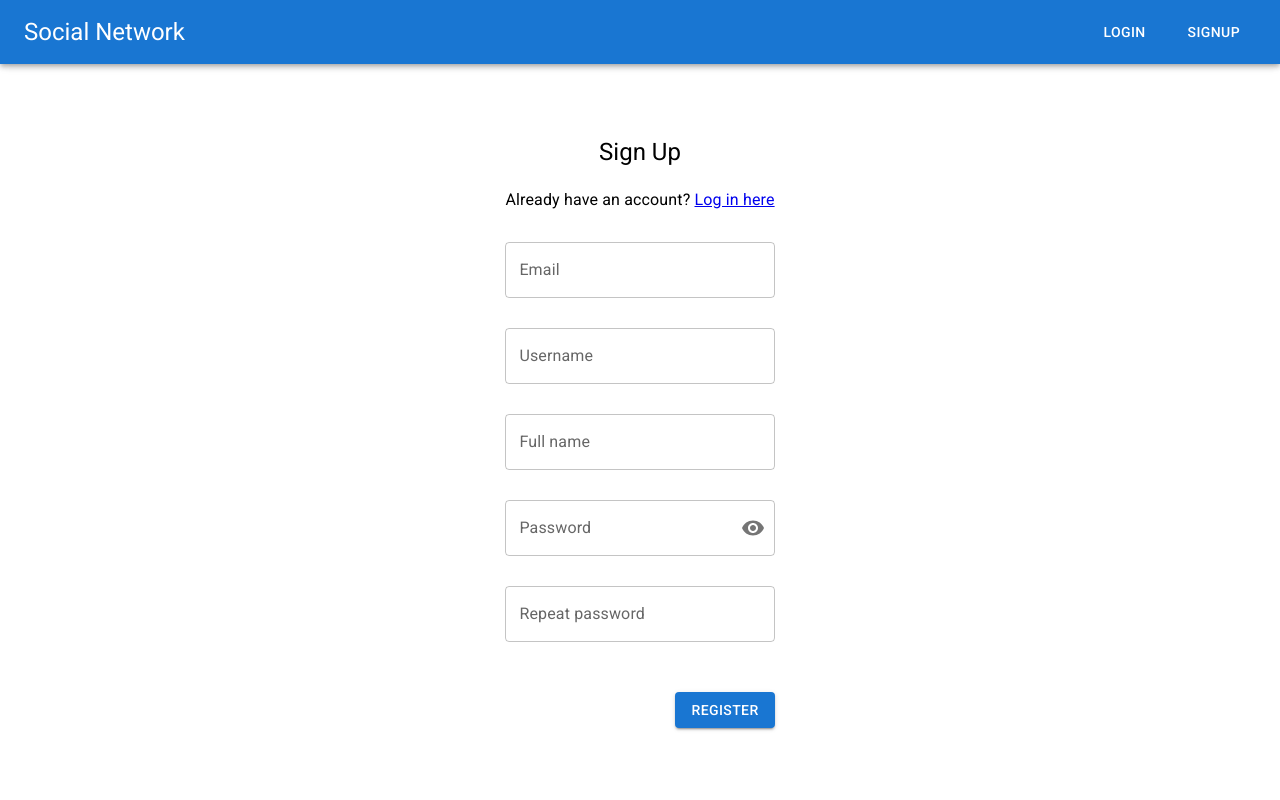
Test: register page form › should return error if username taken
Type "johndoe@gmail.com" into the field labelled "Email". click: (640, 270)
box: [505,242,775,298]
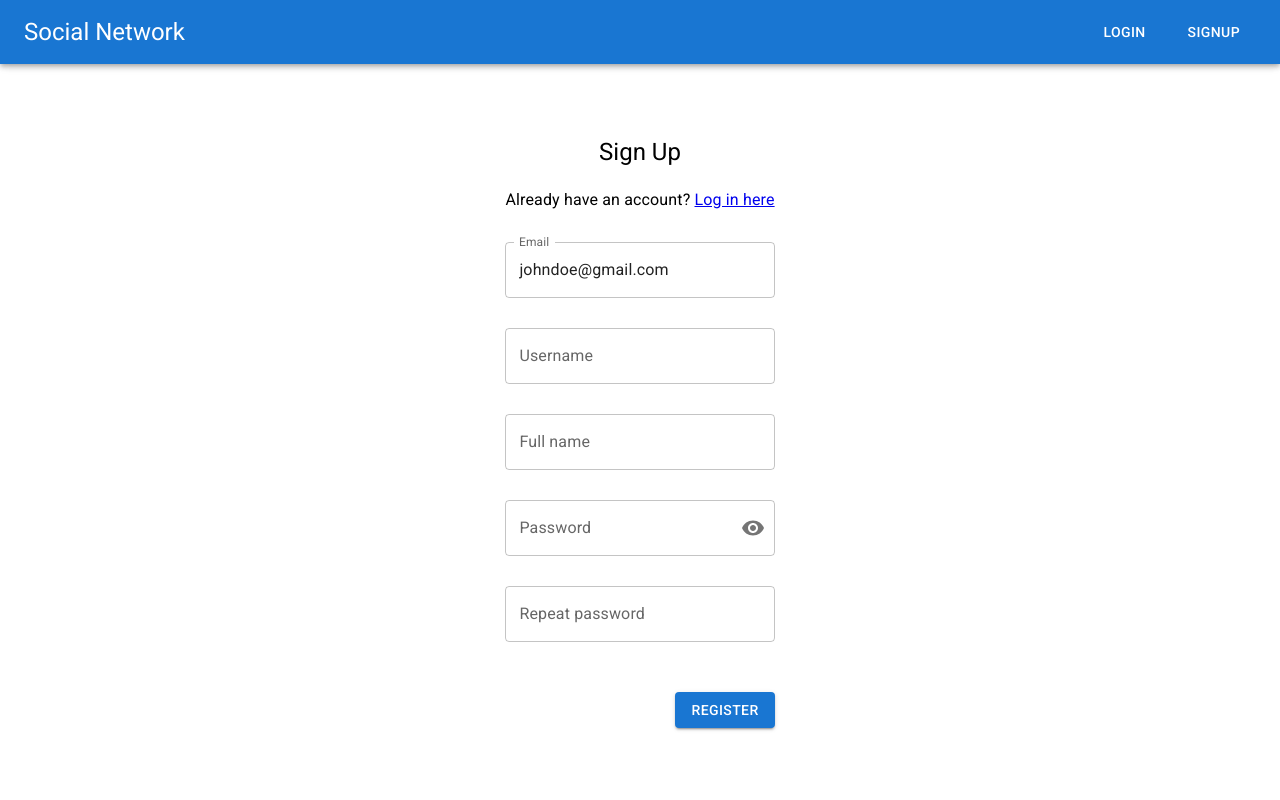
Type "john123" into the field labelled "Username". click: (640, 356)
box: [505,328,775,384]
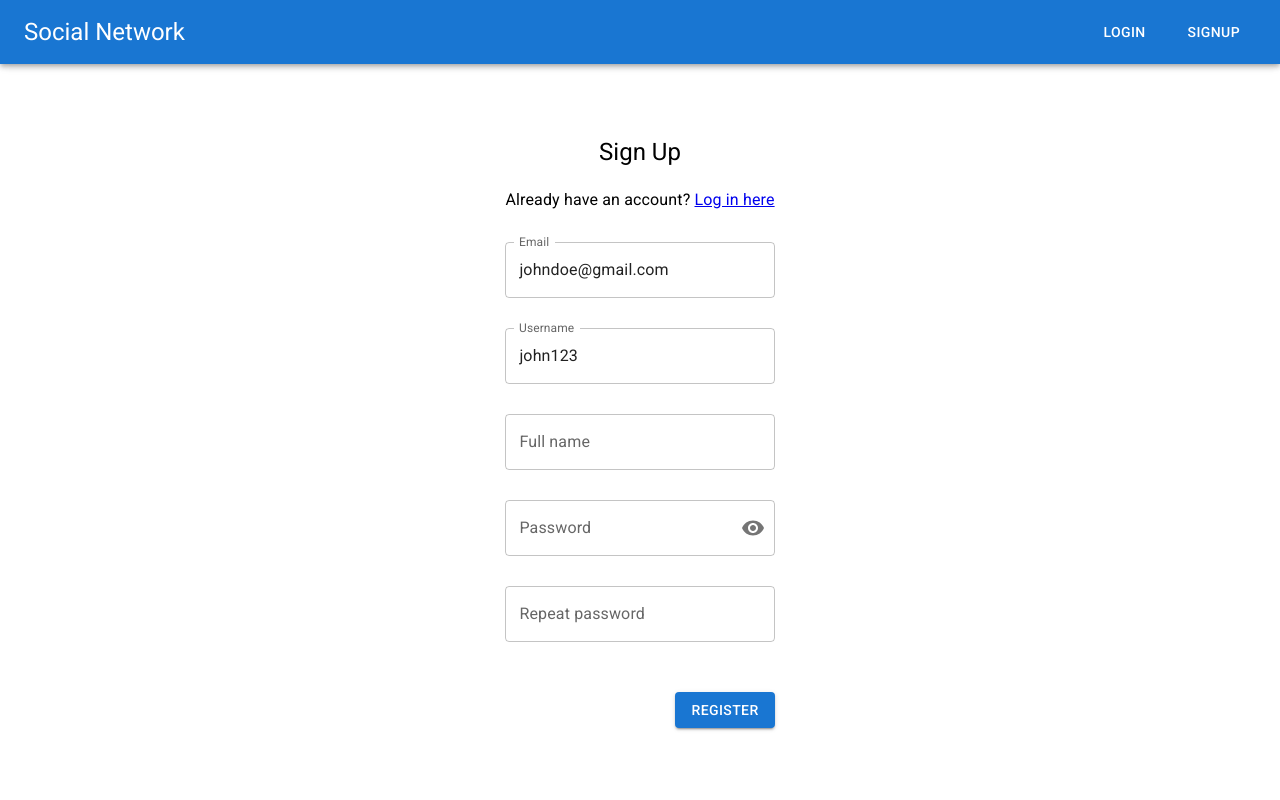
Type "John Doe" into the field labelled "Full name". click: (640, 442)
box: [505,414,775,470]
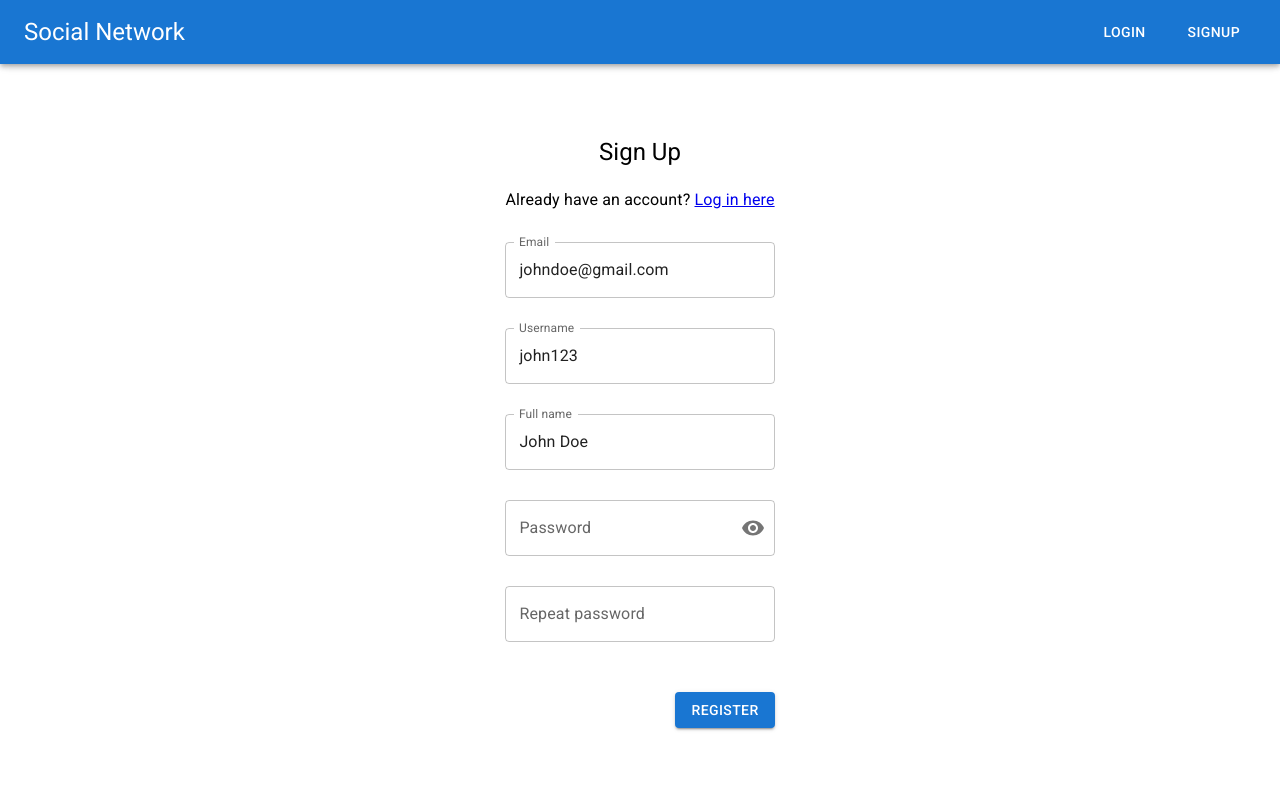
Type "123" into the password field labelled "Password". click: (615, 528)
box: [505,500,725,556]
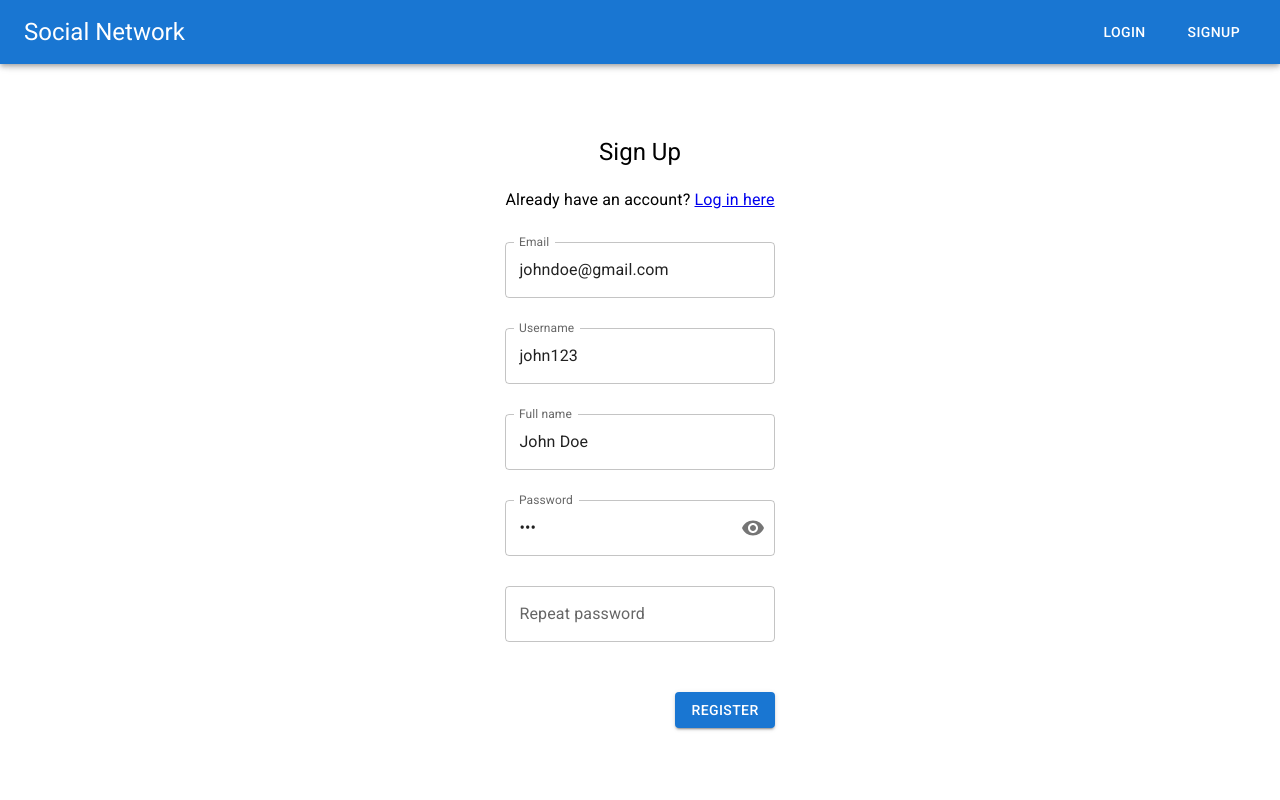
Type "123" into the password field labelled "Repeat password". click: (640, 614)
box: [505,586,775,642]
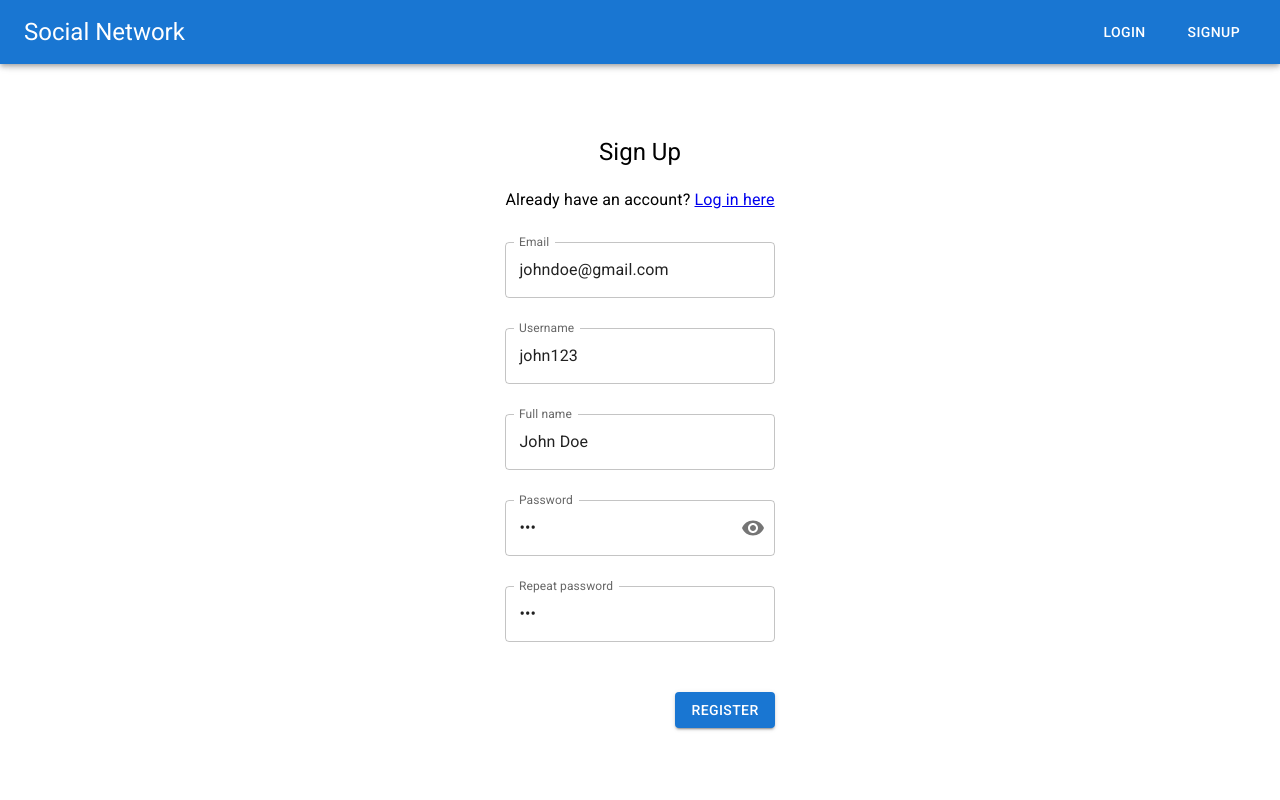
Click the button with test id "submit-btn". click: (725, 710)
box: [676,692,775,728]
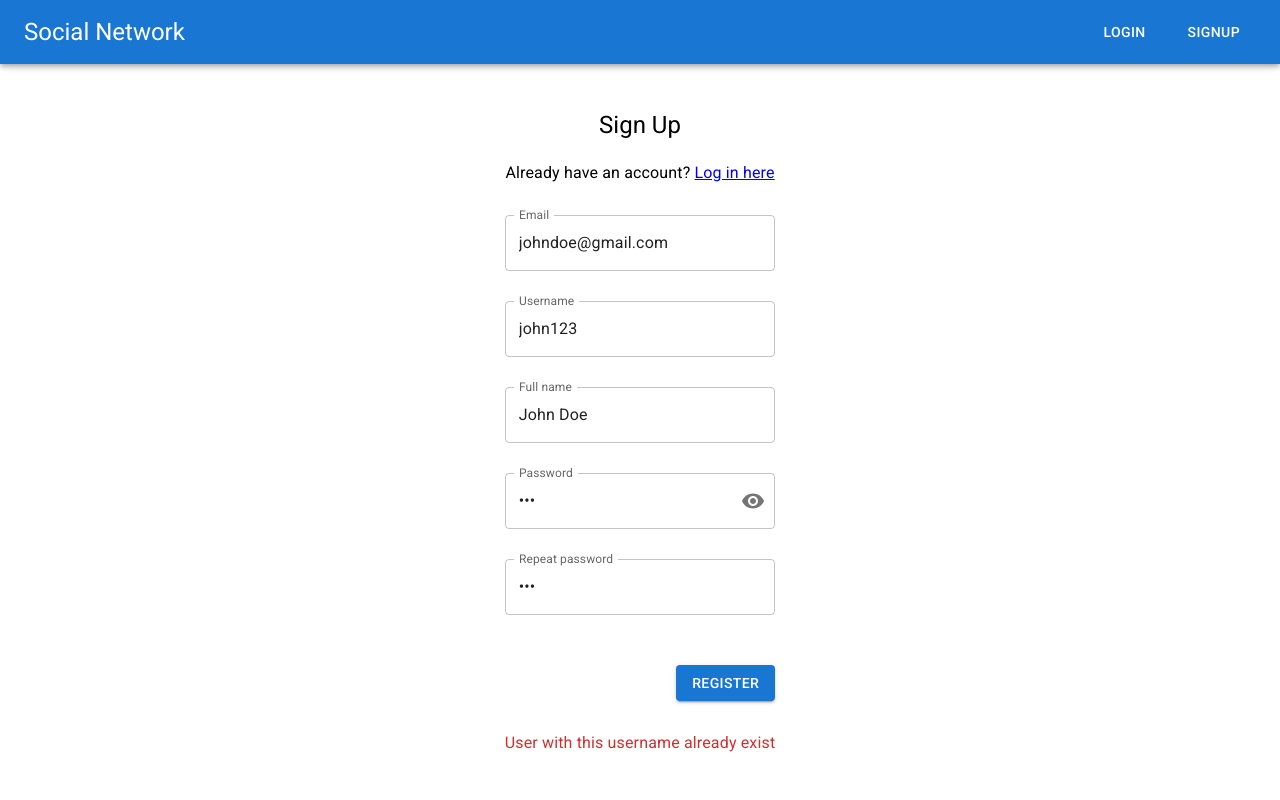
Result: the text with test id "error-txt" reads "User with this username already exist" at [505,733,775,752]
